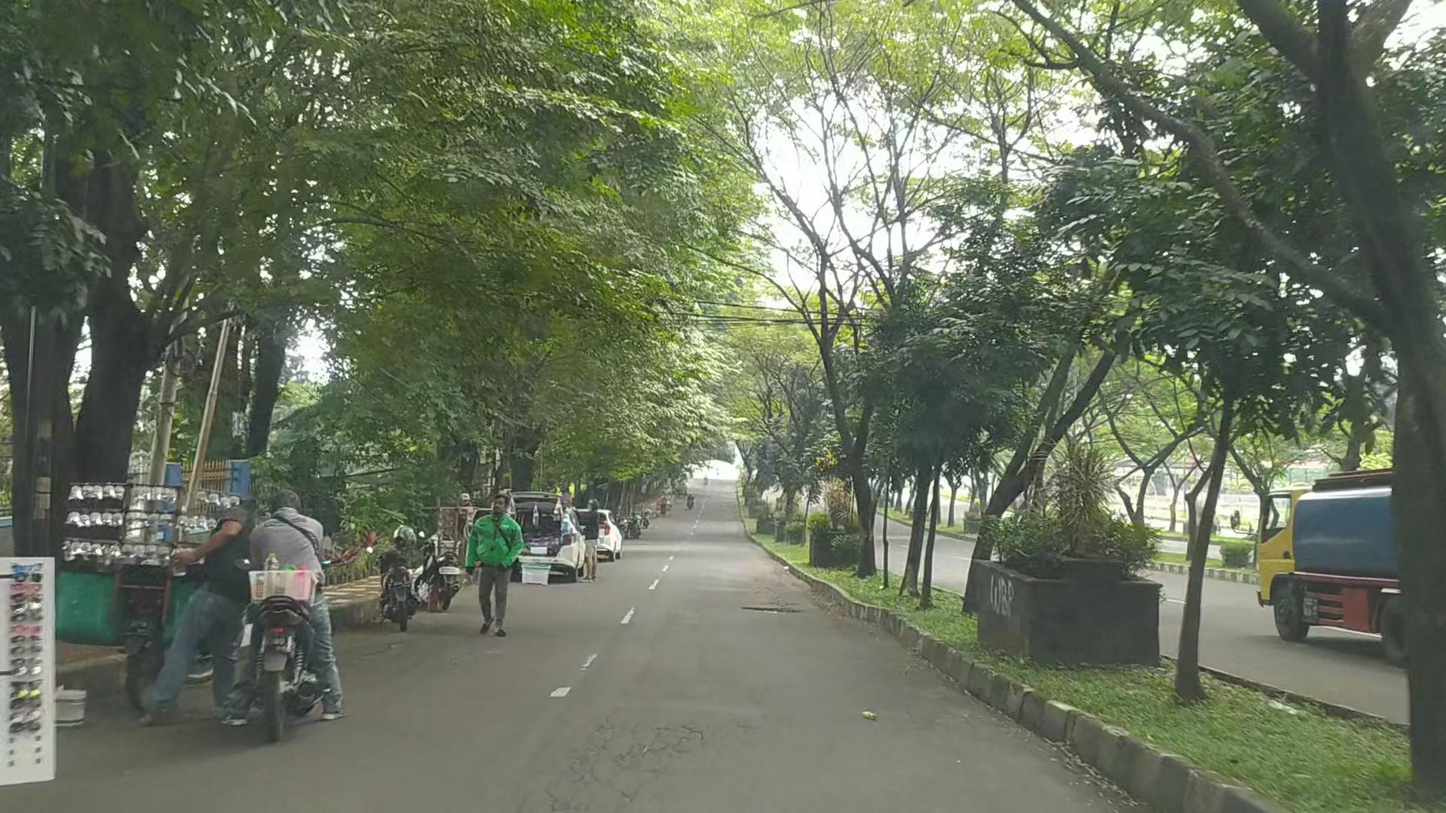pothole: (740, 603, 795, 614)
